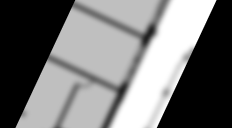door: (72, 1, 146, 41), (76, 72, 95, 92)
wall: (45, 53, 123, 99), (89, 82, 131, 128), (55, 83, 79, 128), (138, 22, 159, 49), (28, 122, 59, 128), (53, 125, 73, 128)
window: (121, 41, 148, 86), (147, 0, 179, 29)
